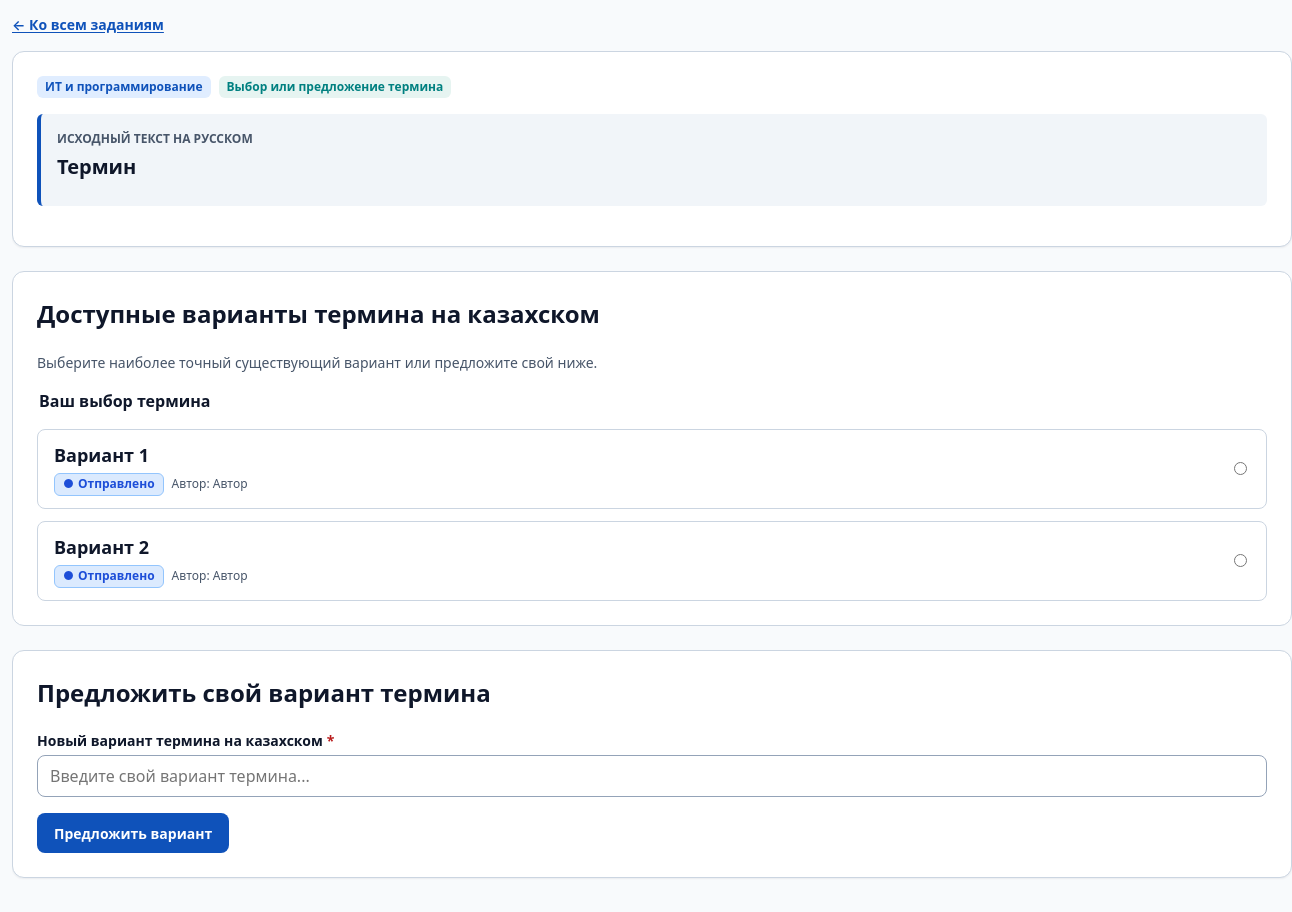
Test: TaskDetailPage (translation and term flows) › keeps radio focus while serializing rapid changes of term preference
Click the radio button labelled "Вариант 1" at (1240,468), box top-left (1234, 462), bottom-right (1247, 475)
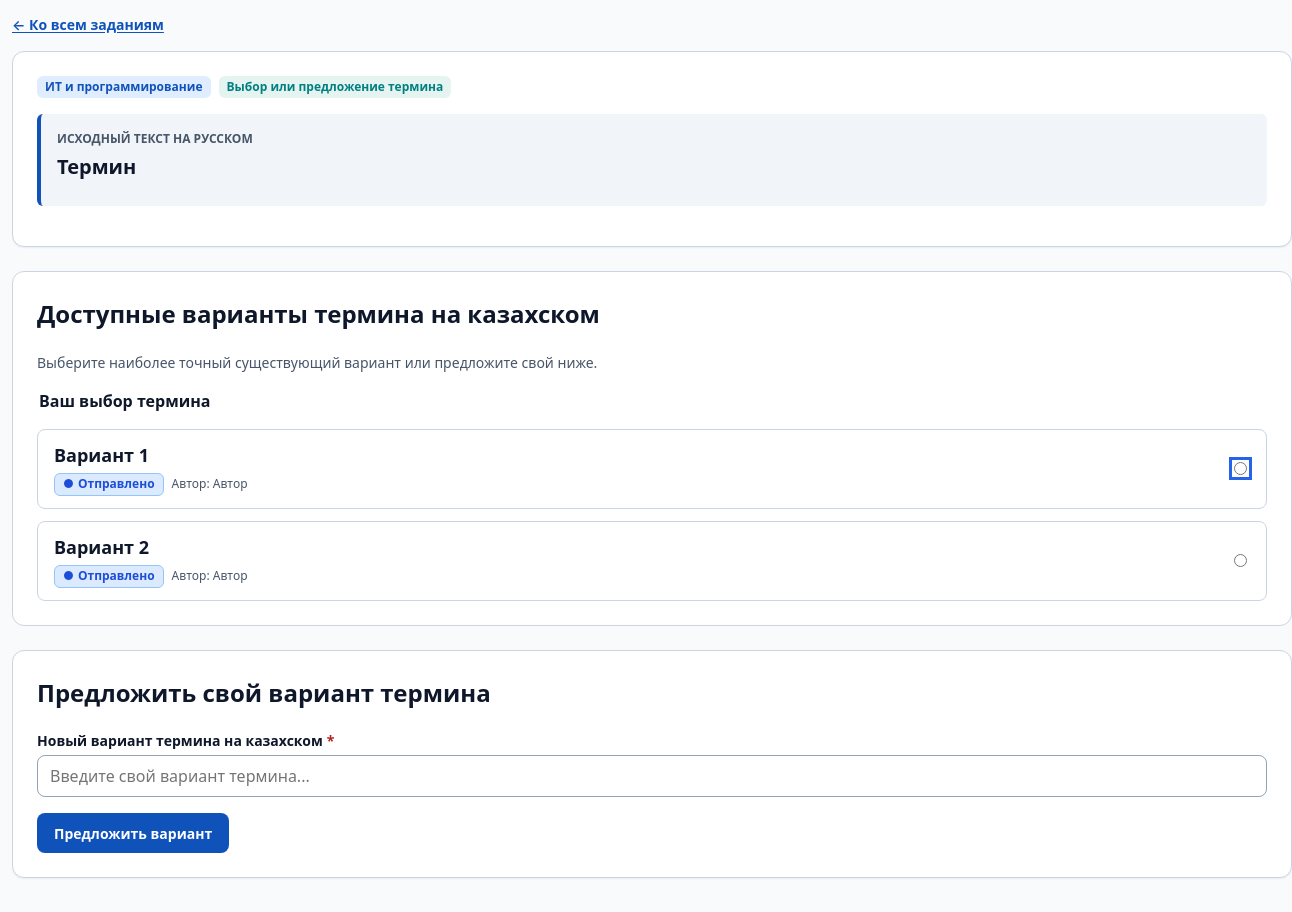
Click the radio button labelled "Вариант 2" at (1240,560), box top-left (1234, 554), bottom-right (1247, 567)
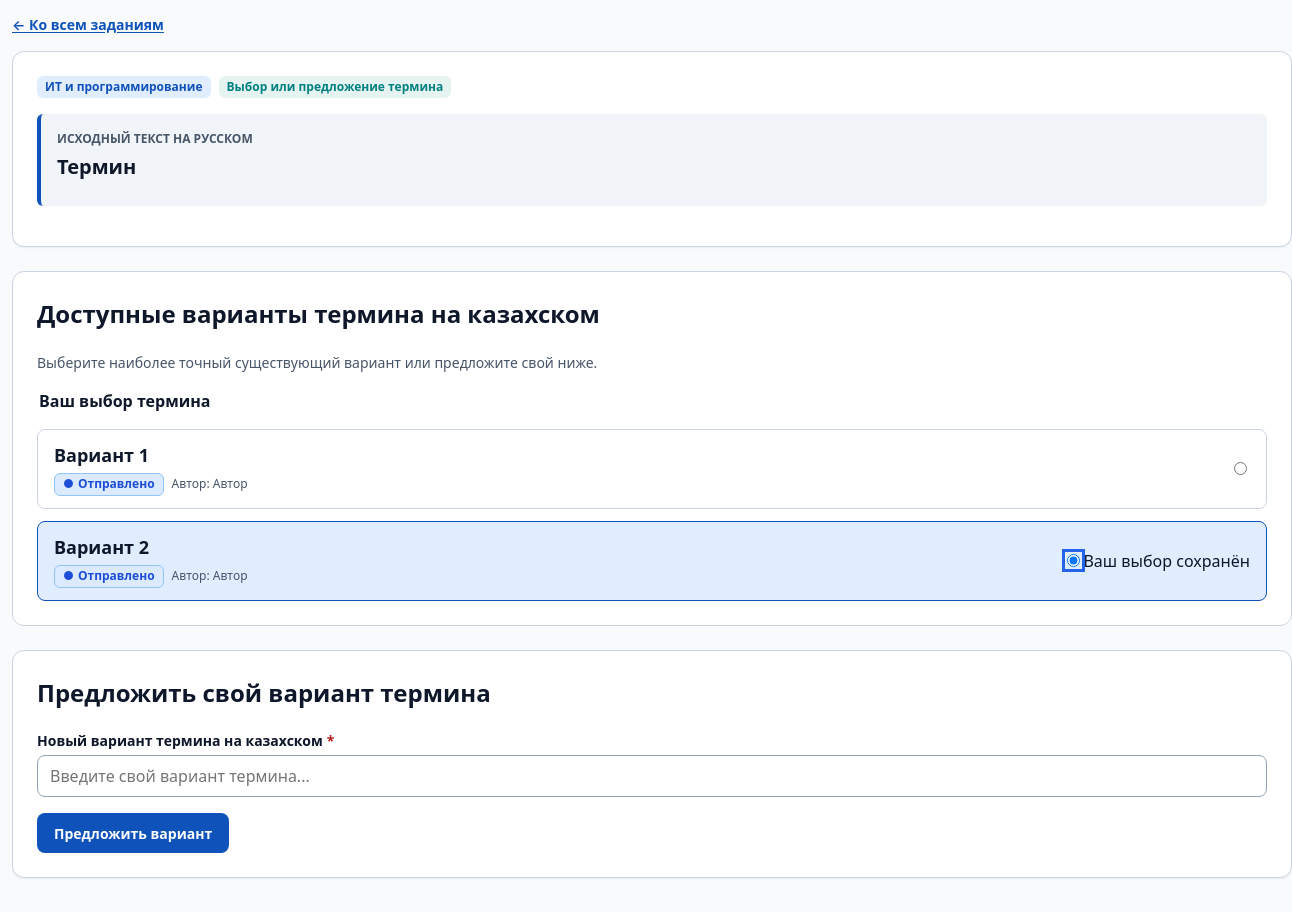
Check: the text "Ваш выбор сохранён" is shown, box top-left (1083, 550), bottom-right (1250, 572)
